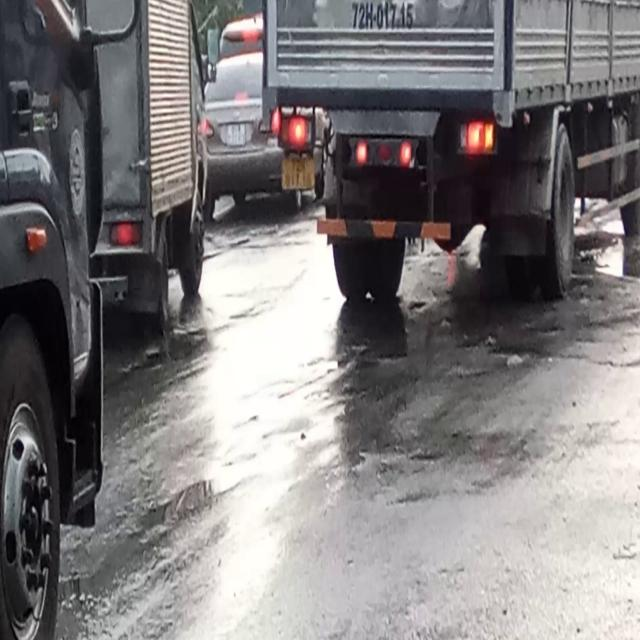bien_vang: (281, 153, 320, 195)
